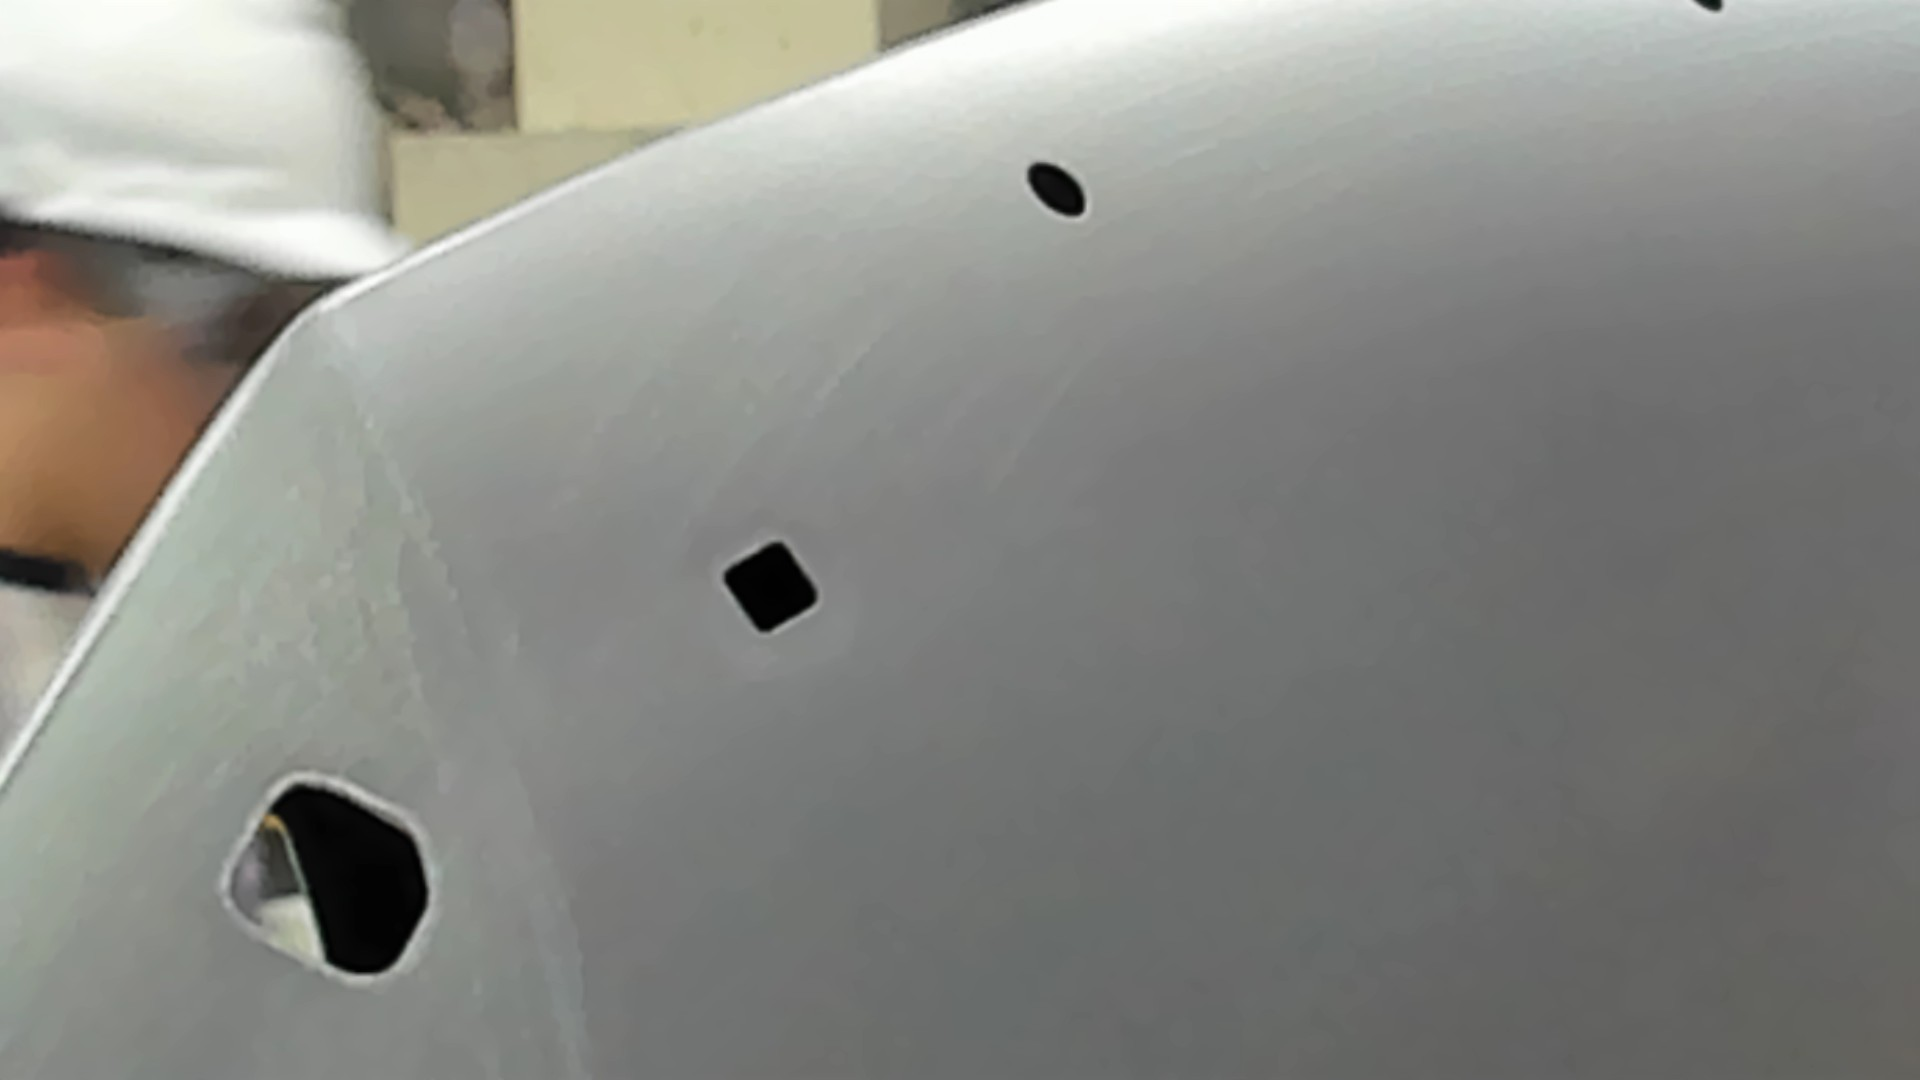chico: (1021, 158, 1089, 223), (1691, 1, 1730, 15)
grande: (211, 767, 433, 992)
mediano: (713, 535, 823, 638)
